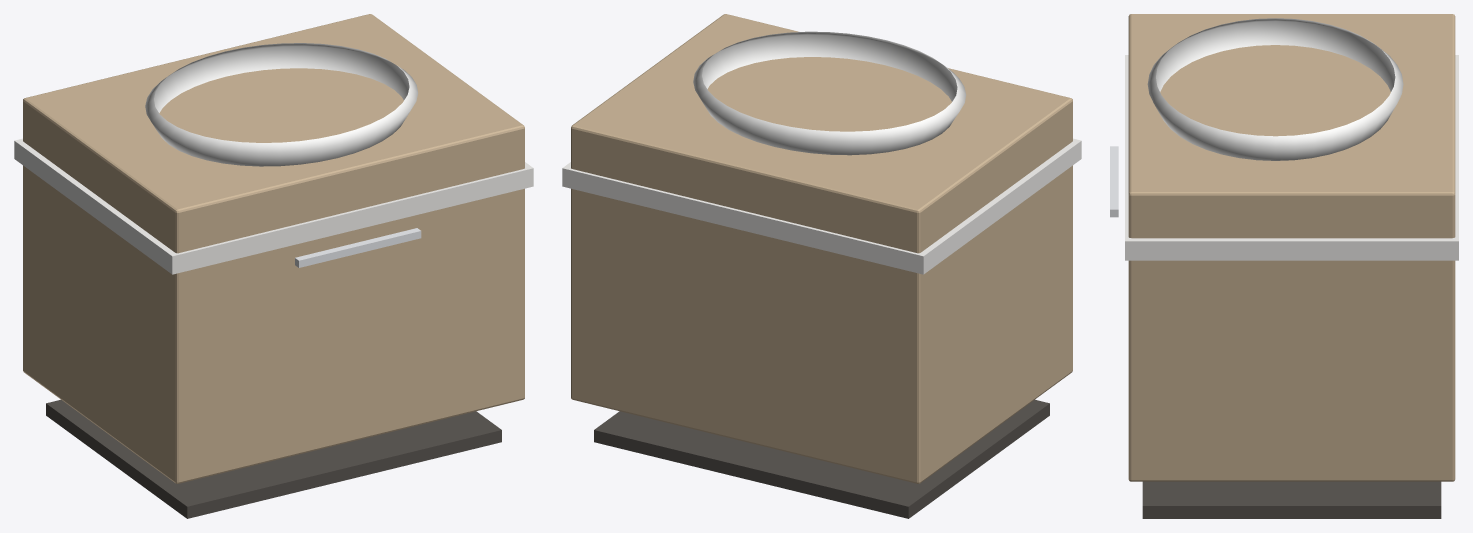
The model's file is vanity-floating-1drawer.glb.
3 views of the same model, side by side, from view 1: azimuth 30°, elevation 25°; view 2: azimuth 150°, elevation 25°; view 3: azimuth 270°, elevation 25° (orthographic). The views are drawn at different scales.
Visible parts, largest first — view 1: body; view 2: body; view 3: body.
Part boxes in pixels (box(x1,y1,x2,y2)): body: box(14, 14, 533, 518); body: box(562, 14, 1081, 518); body: box(1110, 14, 1458, 518).
Bounding box in the file's own units: 0.62 × 0.56 × 0.491.
